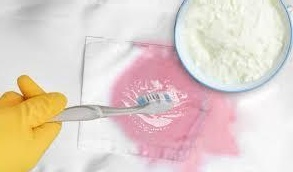wine: (132, 103, 235, 160), (109, 47, 173, 92), (107, 118, 140, 138), (181, 84, 199, 105), (113, 89, 120, 98)
